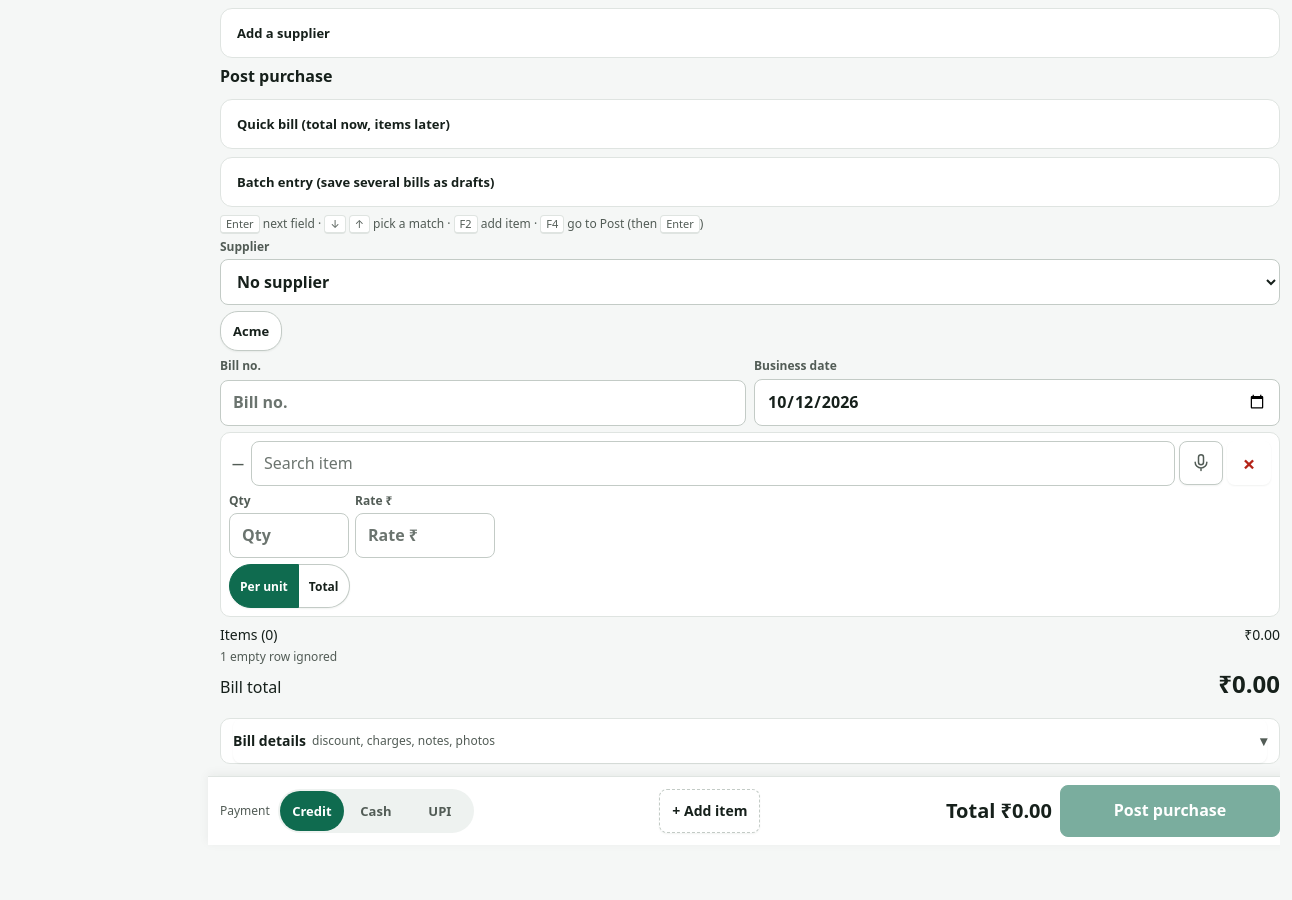
Test: repeat last bill keeps each item's discount and GST (never a silently lower bill); usual items never add it twice
The width and height of the screenshot is (1292, 900).
Expected: the date field named "date" holds "2026-10-12", top-left (754, 378), bottom-right (1280, 426)
Select "Acme" in the dropdown named "partyId" at (750,282), box top-left (220, 259), bottom-right (1280, 305)
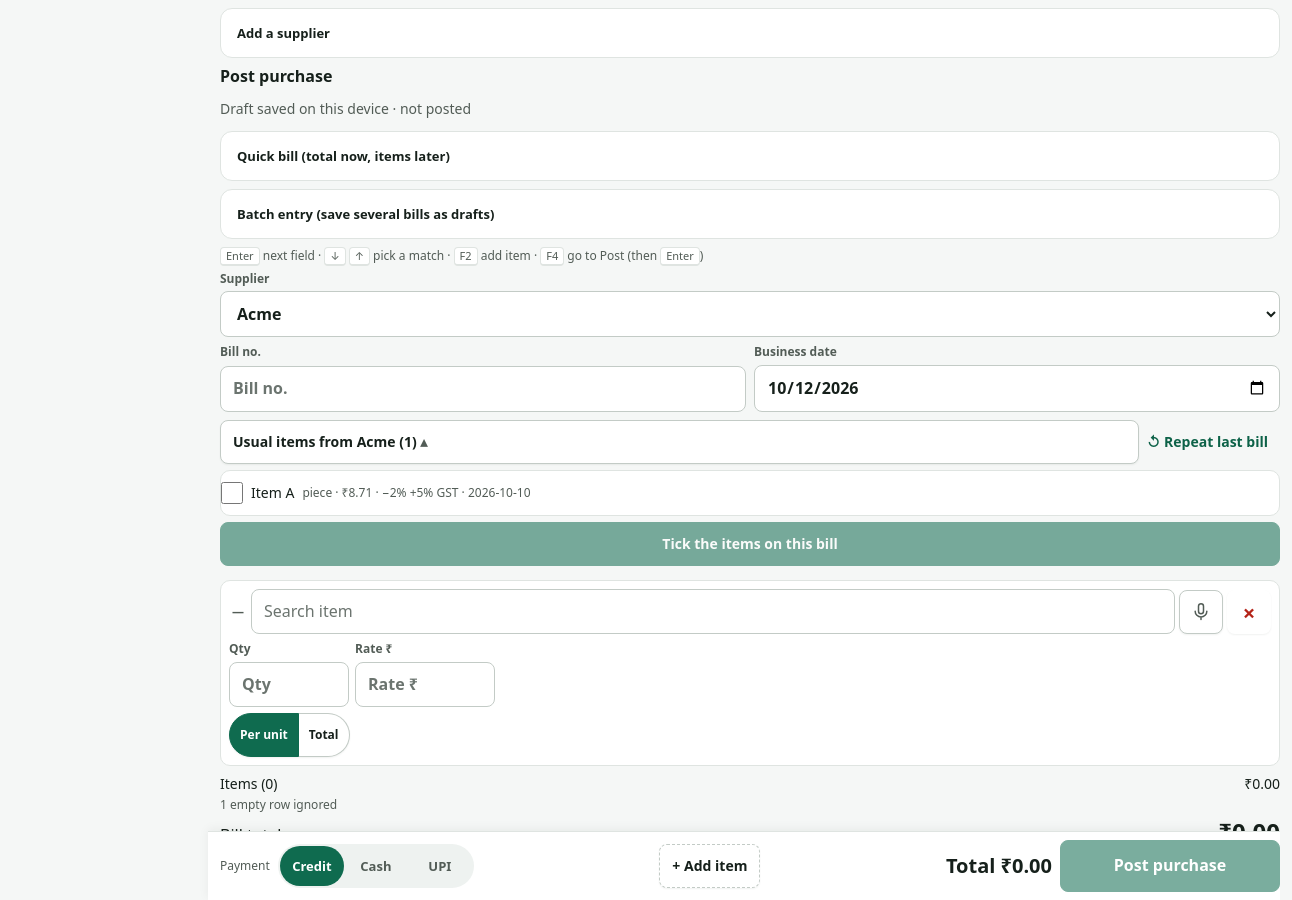
Expected: the text "↺ Repeat last bill" is shown
Click the button "↺ Repeat last bill".
click(1214, 442)  # box top-left (1147, 420), bottom-right (1280, 464)
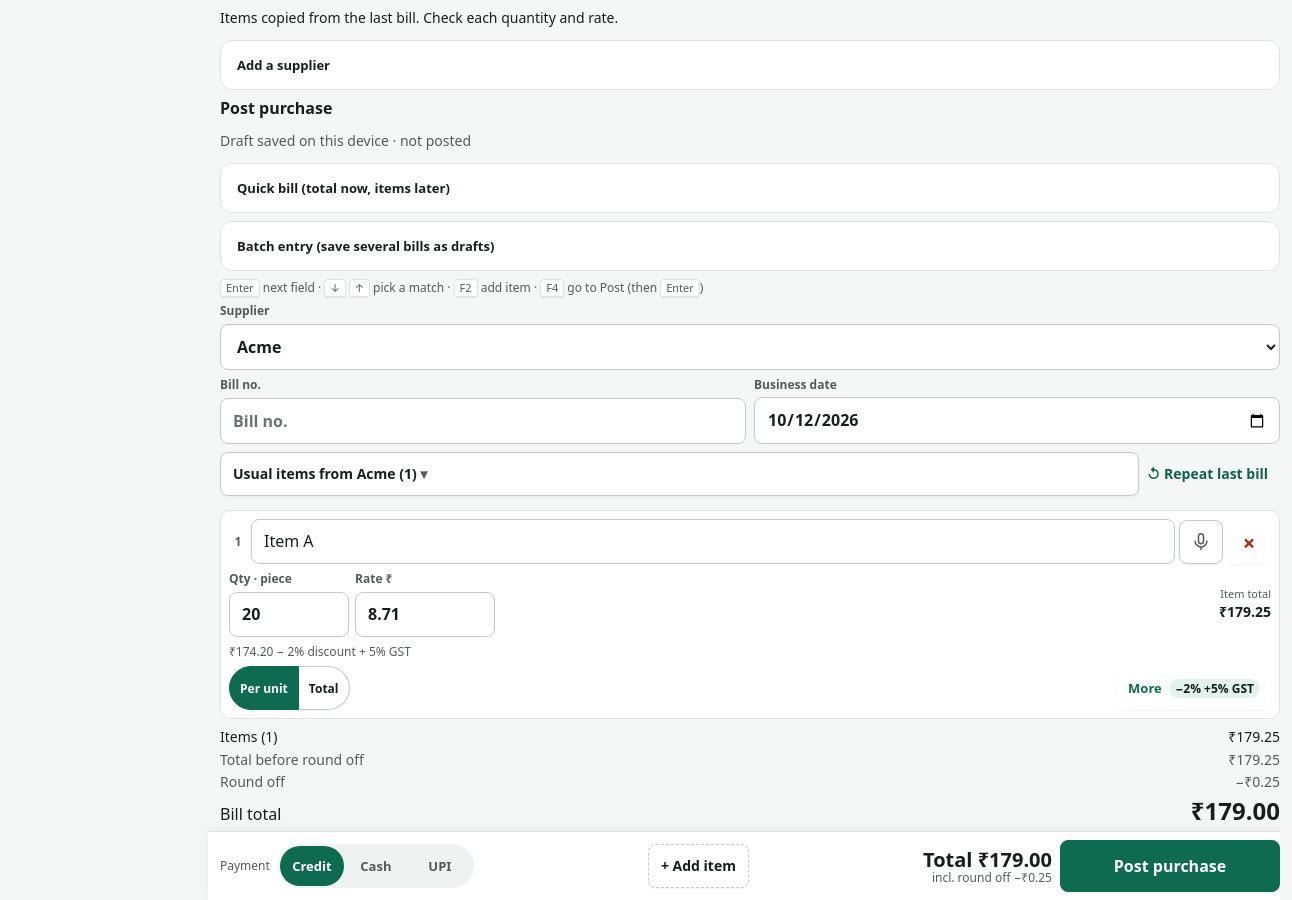
Click the button "Usual items from Acme (1)".
click(295, 474)  # box top-left (220, 452), bottom-right (1139, 496)
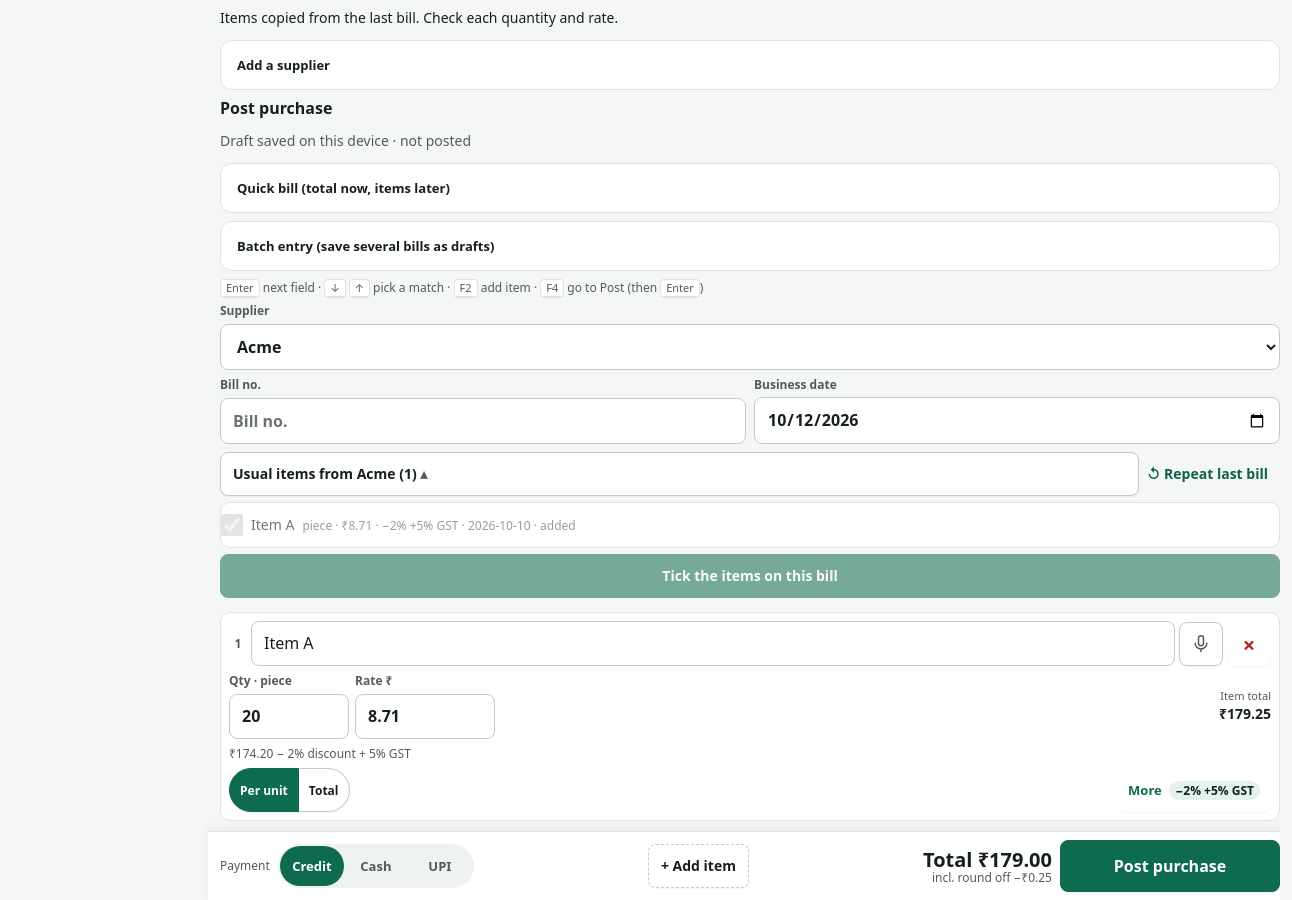
Expected: the checkbox labelled "Item A piece · ₹8.71 · −2% +5% GST · 2026-10-10 · added" is checked, top-left (221, 514), bottom-right (243, 536)
Expected: the checkbox labelled "Item A piece · ₹8.71 · −2% +5% GST · 2026-10-10 · added" is disabled, top-left (221, 514), bottom-right (243, 536)
